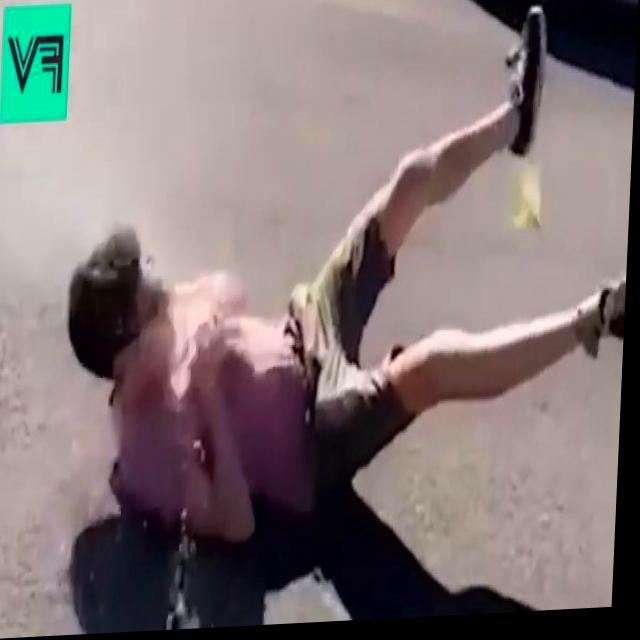fall: (60, 9, 639, 565)
